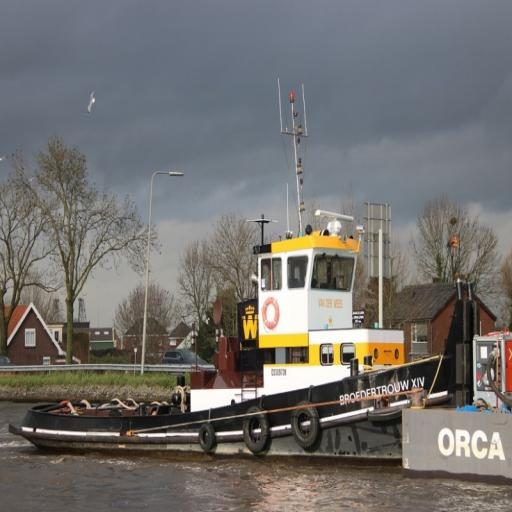tugboat: (6, 209, 512, 476)
